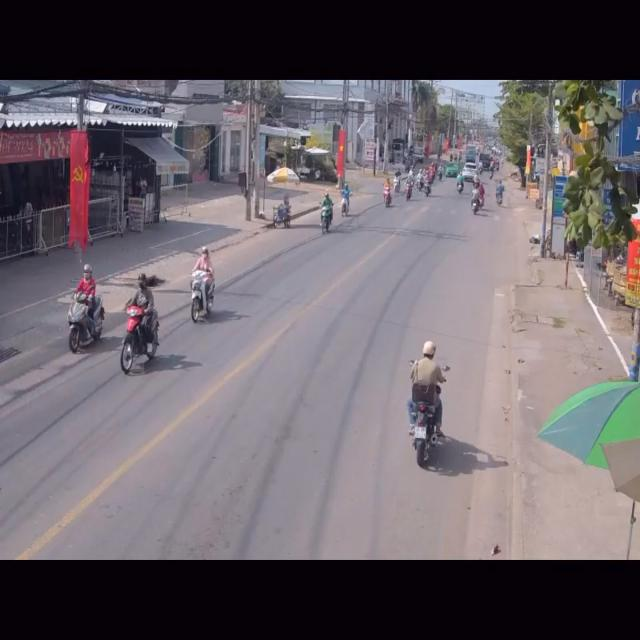motorbike: (405, 341, 449, 469), (122, 278, 161, 379), (69, 268, 104, 357), (192, 248, 218, 328), (318, 191, 334, 238), (273, 198, 293, 232), (384, 173, 395, 209), (340, 187, 352, 218)
